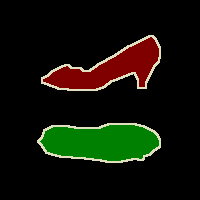shoe: (42, 35, 160, 90), (38, 124, 160, 162)
